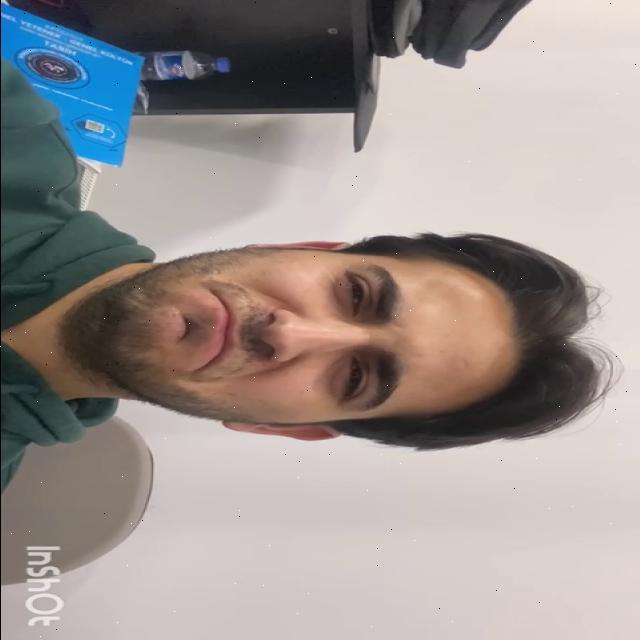sad: (105, 243, 515, 433)
